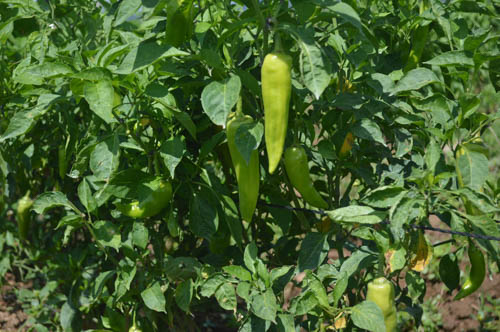ChiliPepper: (226, 113, 263, 225), (262, 54, 290, 180), (116, 177, 174, 222), (285, 148, 326, 209), (458, 244, 487, 305), (364, 280, 396, 321)
